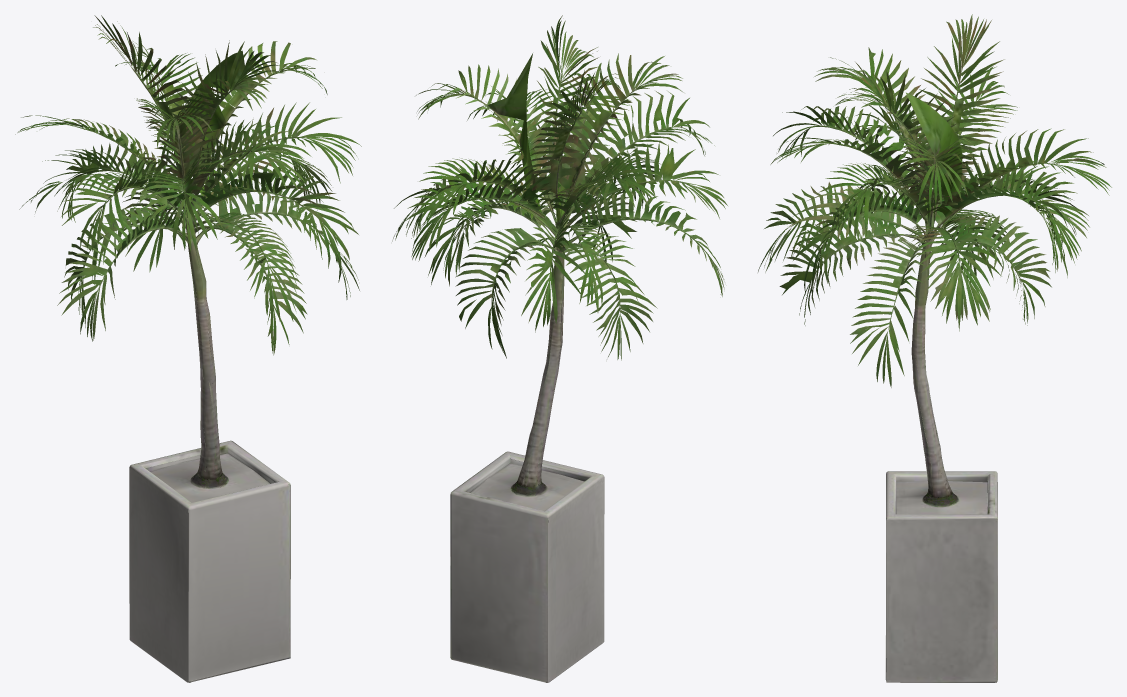
File: palm-planter.glb
3 renders of one model, left to right at view 1: azimuth 30°, elevation 25°; view 2: azimuth 150°, elevation 25°; view 3: azimuth 270°, elevation 25°, orthographic. The views are drawn at different scales.
Parts seen in each view (by area): view 1: tripo_node_2926b9e3-42b0-4c50-9c95-5f57246d6001; view 2: tripo_node_2926b9e3-42b0-4c50-9c95-5f57246d6001; view 3: tripo_node_2926b9e3-42b0-4c50-9c95-5f57246d6001.
Boxes of the visible parts, x1,y1,x2,y2 form: tripo_node_2926b9e3-42b0-4c50-9c95-5f57246d6001: [15, 15, 361, 682]; tripo_node_2926b9e3-42b0-4c50-9c95-5f57246d6001: [392, 15, 727, 682]; tripo_node_2926b9e3-42b0-4c50-9c95-5f57246d6001: [758, 14, 1111, 682].
Size of the model in its own units: 1.72 by 3.5 by 1.87.
Materials: 1 (1 with a texture image).
